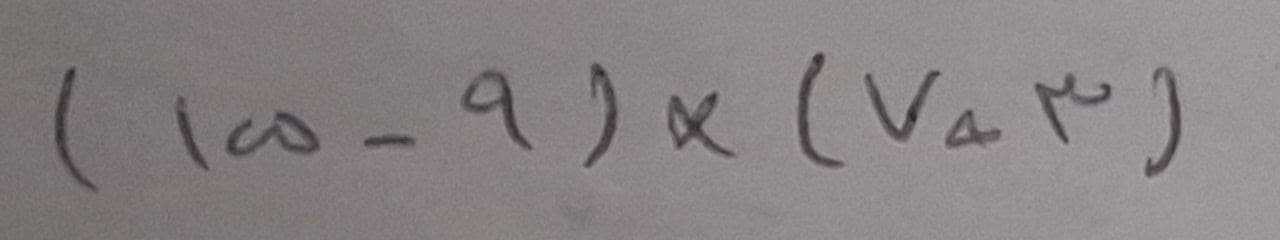character: (54, 58, 102, 197), (857, 65, 940, 145), (459, 67, 533, 154), (794, 51, 847, 170), (657, 86, 735, 164), (1026, 76, 1109, 147), (1141, 60, 1190, 179), (227, 105, 321, 160), (585, 60, 622, 173), (169, 90, 213, 175), (943, 105, 1000, 154), (361, 131, 420, 153)
